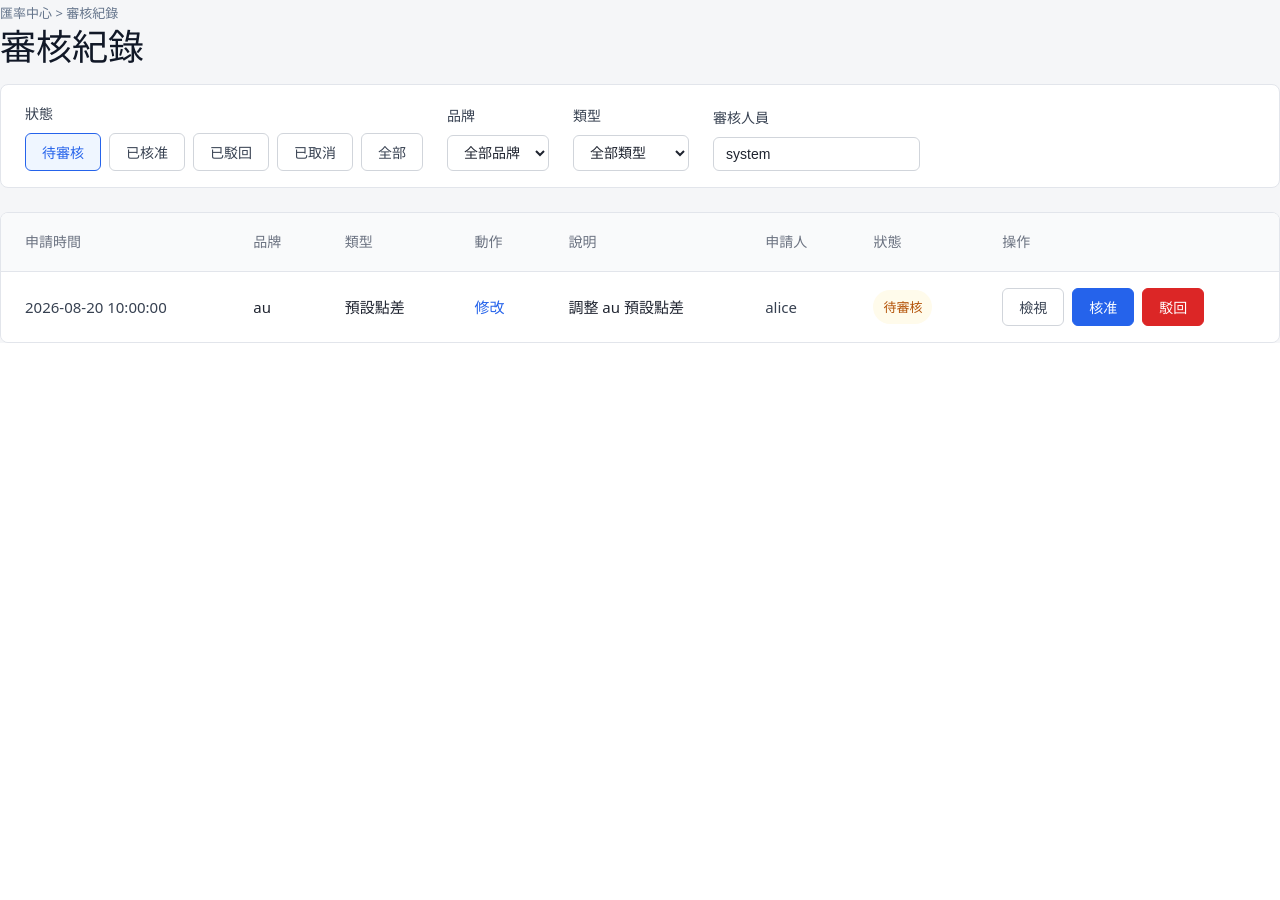
Test: AuditRequestPage › approves a request and refreshes the list on success
The width and height of the screenshot is (1280, 900).
Check: the text "調整 au 預設點差" is shown, box [544,272,741,342]
Step 1. Click the button "核准" → (1103, 307), box [1072,288,1134,326]
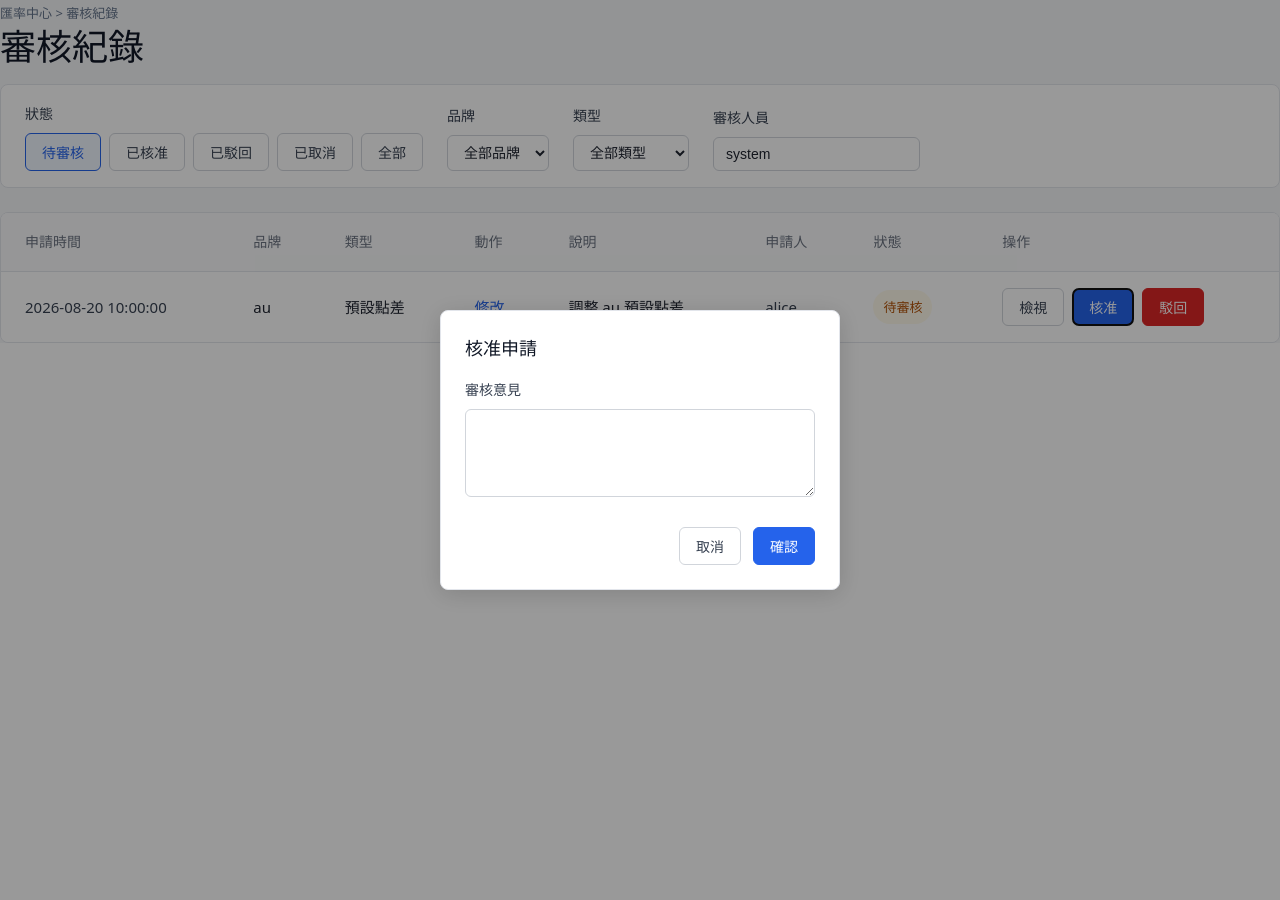
Step 2. Click the button "確認" → (784, 546), box [753,527,815,565]
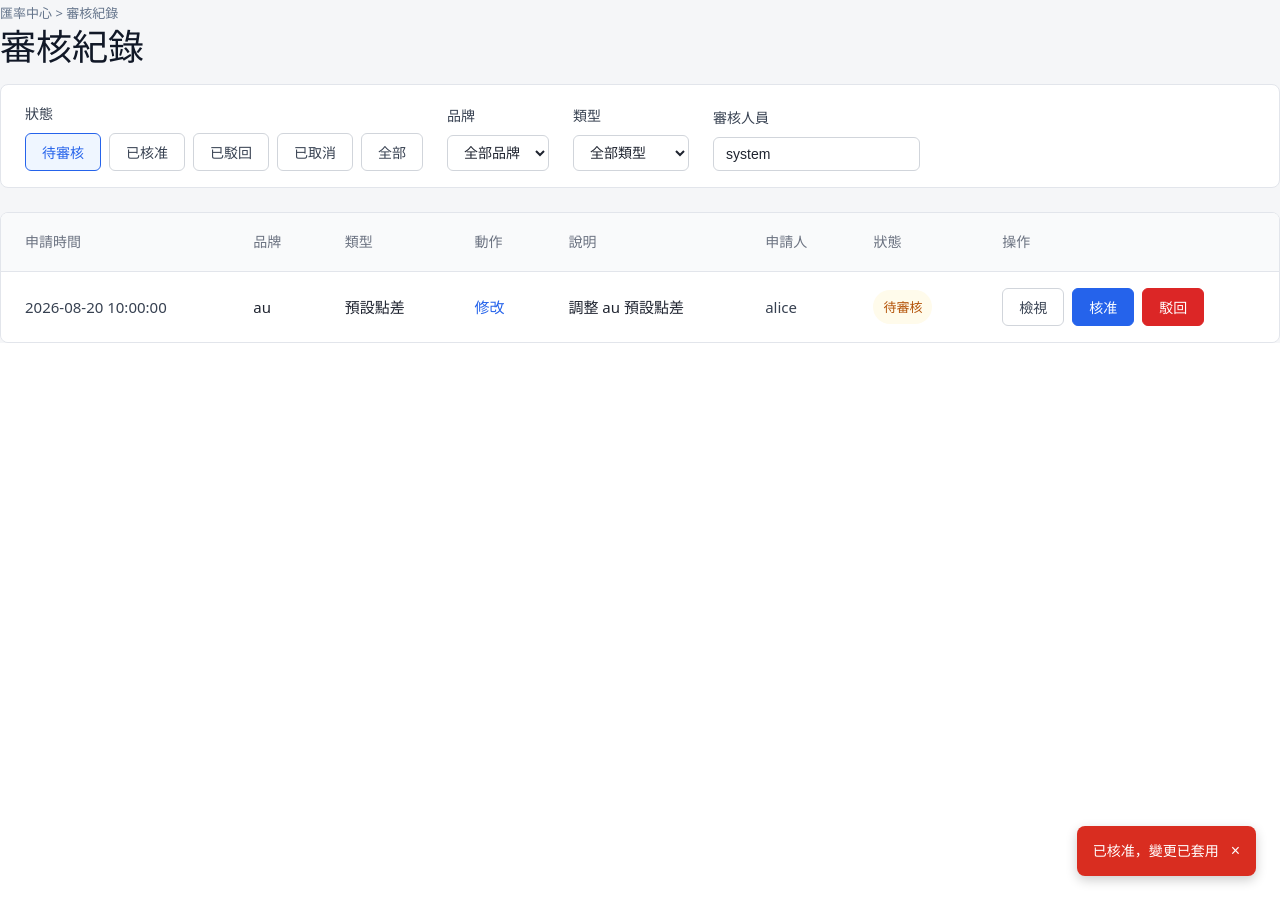
Check: the text "已核准，變更已套用" is shown, box [1093,838,1219,864]
